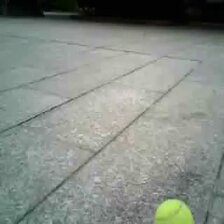tennis: (152, 199, 195, 224)
